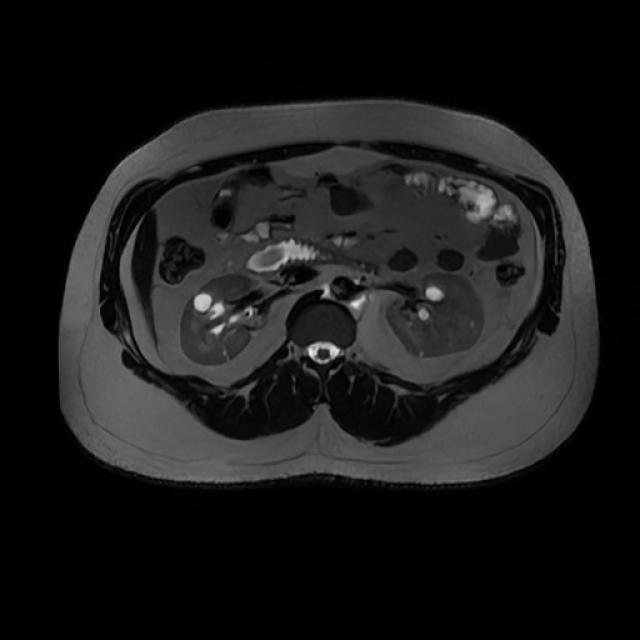sag: (177, 271, 262, 365)
sol: (384, 272, 487, 358)
